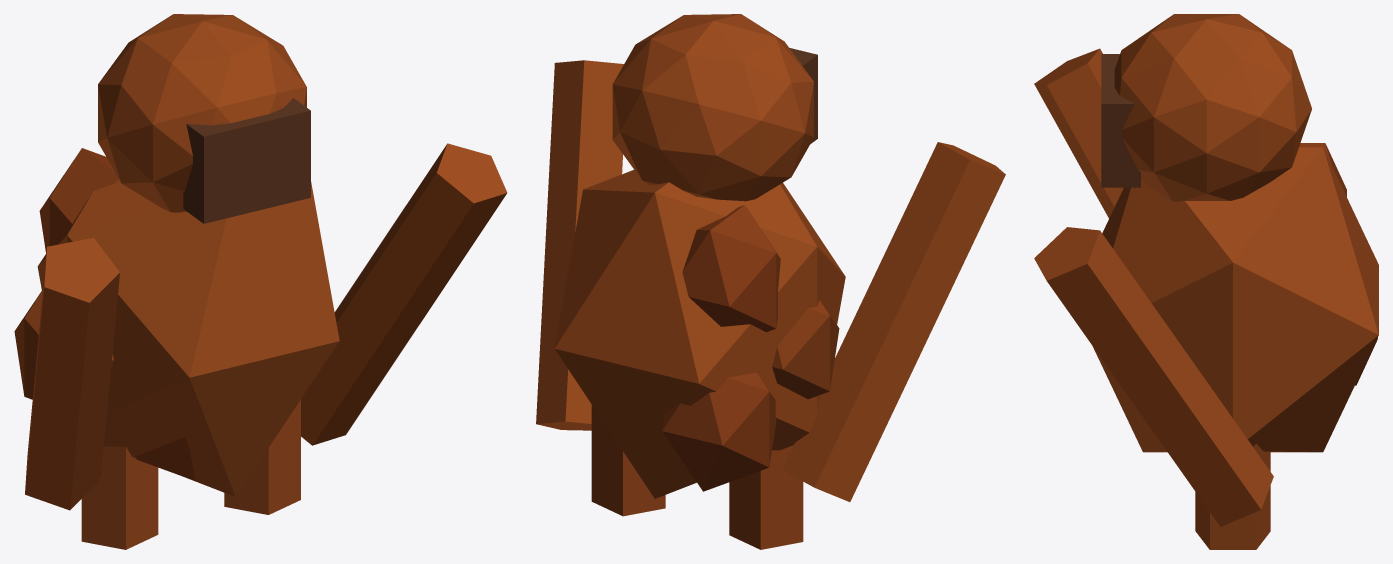
The model's file is orangutan.glb.
The picture shows the model from 3 angles, left to right: view 1: azimuth 30°, elevation 25°; view 2: azimuth 150°, elevation 25°; view 3: azimuth 270°, elevation 25°; orthographic projection. The views are drawn at different scales.
Parts seen in each view (by area): view 1: kbs_orangutan; view 2: kbs_orangutan; view 3: kbs_orangutan.
Boxes of the visible parts, x1,y1,x2,y2 form: kbs_orangutan: [14, 14, 507, 549]; kbs_orangutan: [536, 14, 1005, 549]; kbs_orangutan: [1034, 14, 1378, 549].
Size of the model in its own units: 1.23 by 1.3 by 0.8396.
